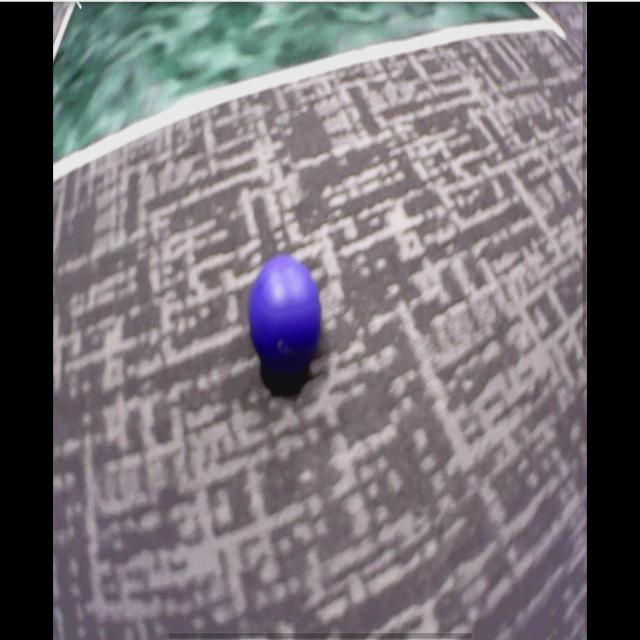ball: (249, 258, 321, 374)
